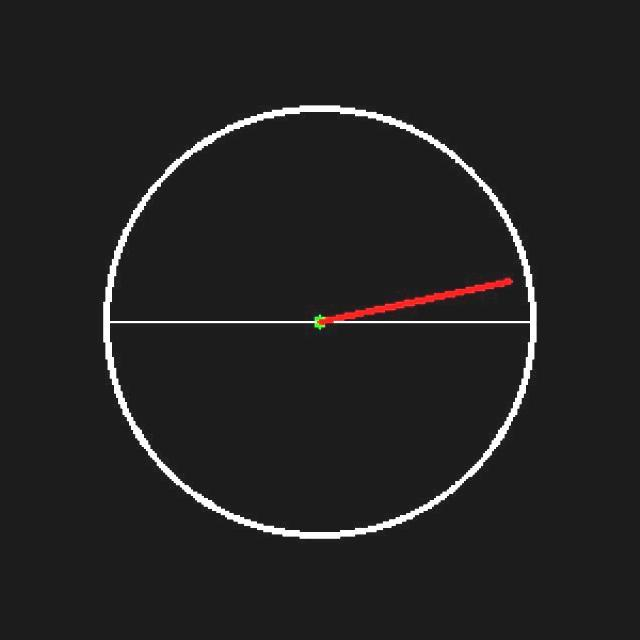Needle_Tip: (486, 261, 527, 307)
Needle_base: (283, 298, 356, 360)
